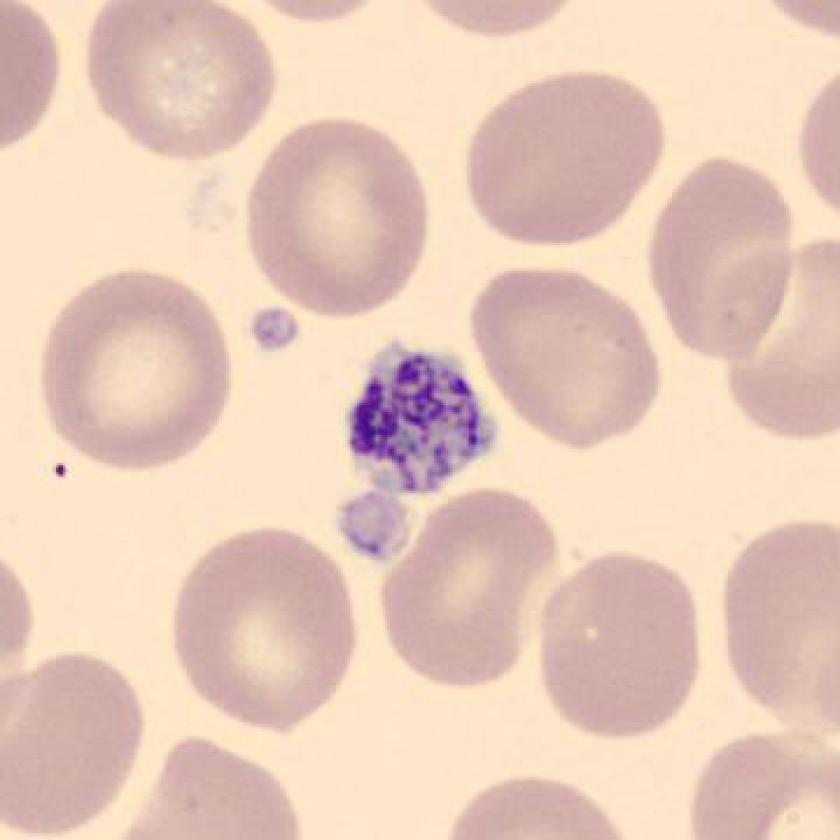platelets: (340, 339, 501, 501), (328, 487, 426, 577), (248, 297, 300, 360)
